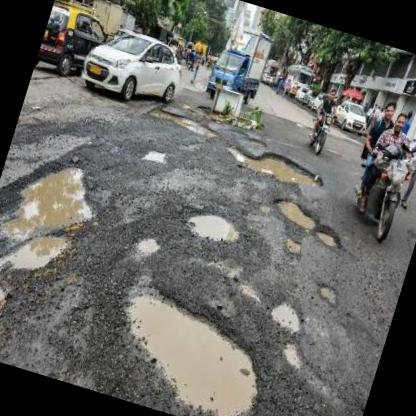pothole: (99, 277, 279, 416), (0, 141, 107, 285), (220, 134, 328, 194), (182, 202, 244, 250), (147, 103, 220, 141), (268, 192, 322, 232), (268, 296, 308, 334), (0, 261, 14, 357), (278, 340, 309, 370), (312, 222, 342, 250), (314, 279, 342, 308), (139, 142, 168, 168), (133, 232, 162, 254), (280, 235, 303, 254)
